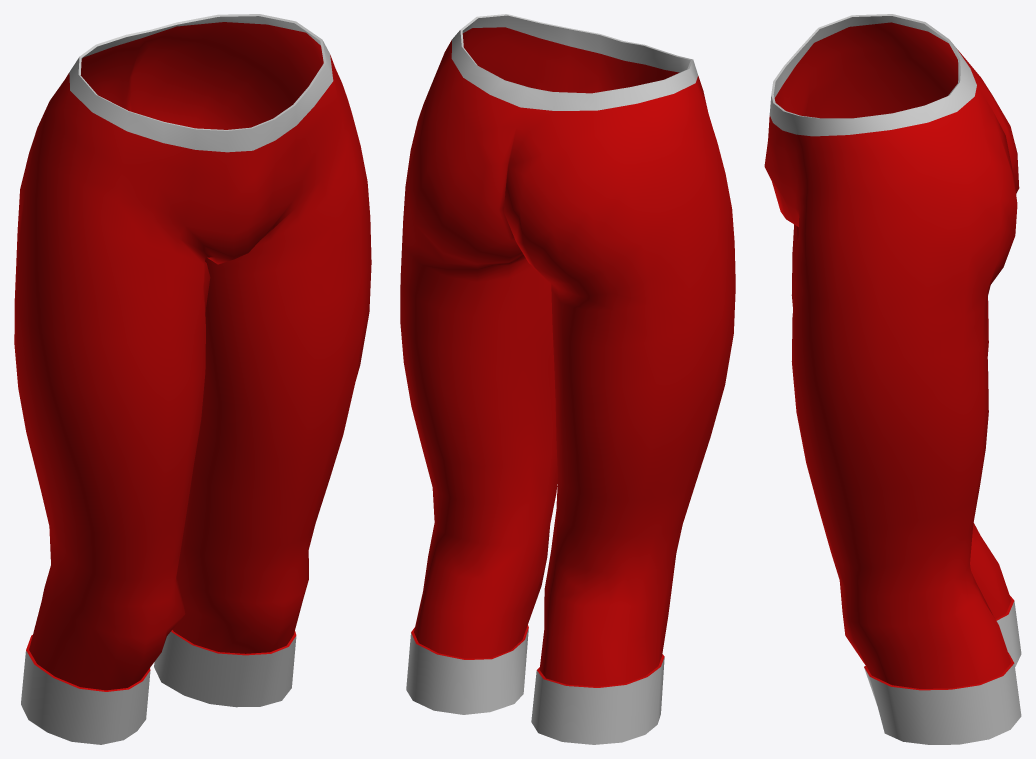
The picture shows the model from 3 angles, left to right: view 1: azimuth 30°, elevation 25°; view 2: azimuth 150°, elevation 25°; view 3: azimuth 270°, elevation 25°; orthographic projection. The views are drawn at different scales.
Parts seen in each view (by area): view 1: cgirl_Bridje; view 2: cgirl_Bridje; view 3: cgirl_Bridje.
Part boxes in pixels (x1,y1,x2,y2): cgirl_Bridje: [14, 14, 371, 744]; cgirl_Bridje: [400, 14, 735, 744]; cgirl_Bridje: [764, 14, 1021, 744].
Size of the model in its own units: 3549 by 6996 by 2590.
